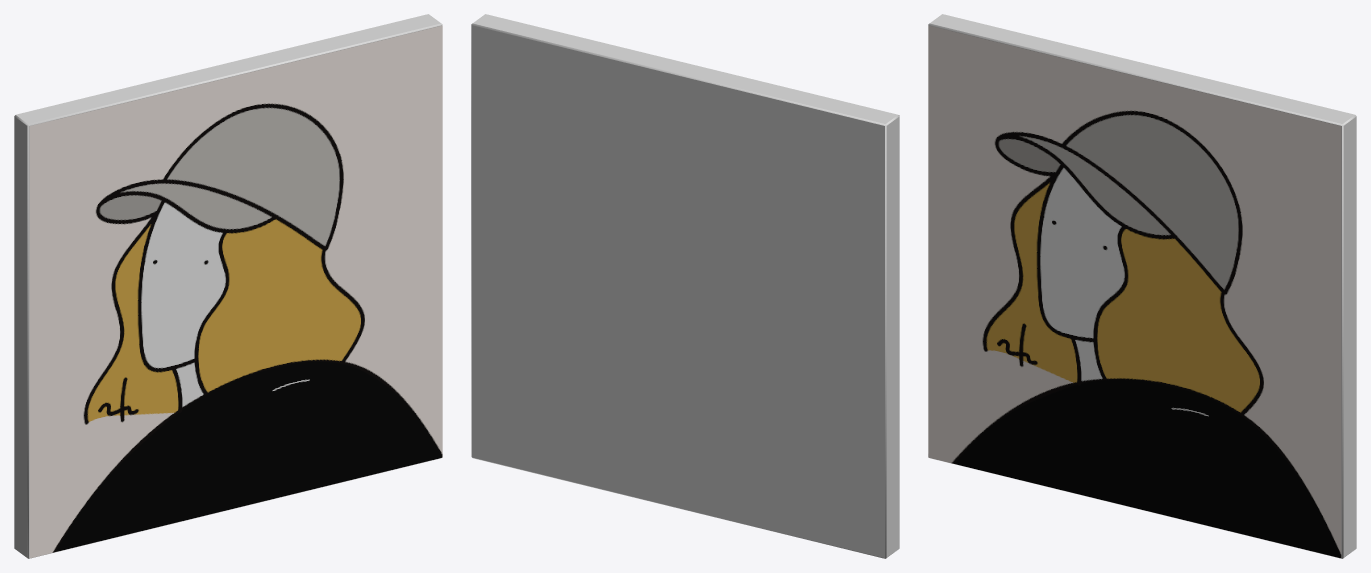
File: room04.glb
The picture shows the model from 3 angles, left to right: view 1: azimuth 30°, elevation 25°; view 2: azimuth 150°, elevation 25°; view 3: azimuth 330°, elevation 25°; orthographic projection.
Parts seen in each view (by area): view 1: tex, board; view 2: board; view 3: tex, board.
Boxes of the visible parts, bbox=[...] form: tex: bbox=[29, 25, 442, 558]; board: bbox=[14, 14, 442, 558]; board: bbox=[471, 14, 899, 558]; tex: bbox=[928, 25, 1341, 558]; board: bbox=[928, 14, 1356, 558].
Bounding box in the file's own units: 0.335 × 0.335 × 0.0205.
Materials: 2 (1 with a texture image).
